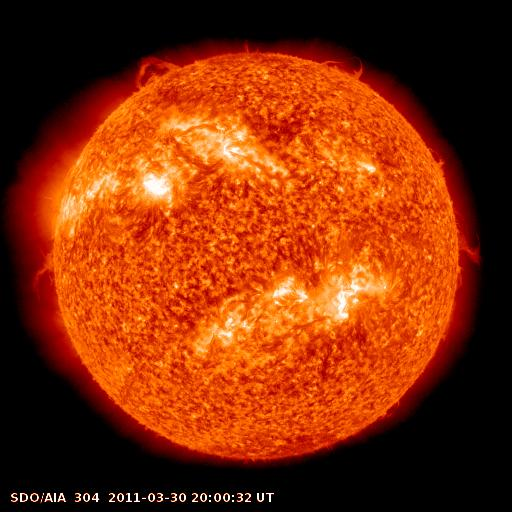prominence: (445, 199, 490, 275), (24, 245, 70, 308), (126, 50, 187, 97), (313, 48, 373, 85), (421, 136, 450, 173)
